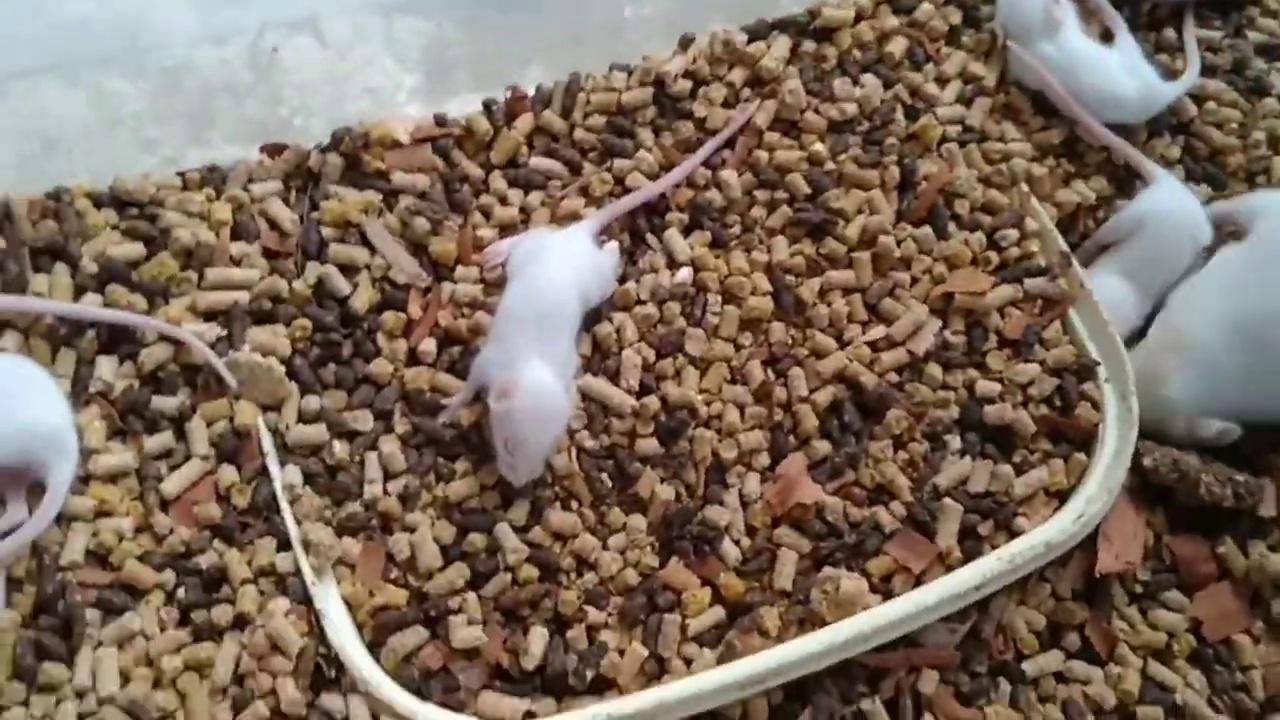rat: (444, 97, 764, 485), (1010, 41, 1214, 342), (1135, 195, 1280, 438), (991, 0, 1201, 118)
